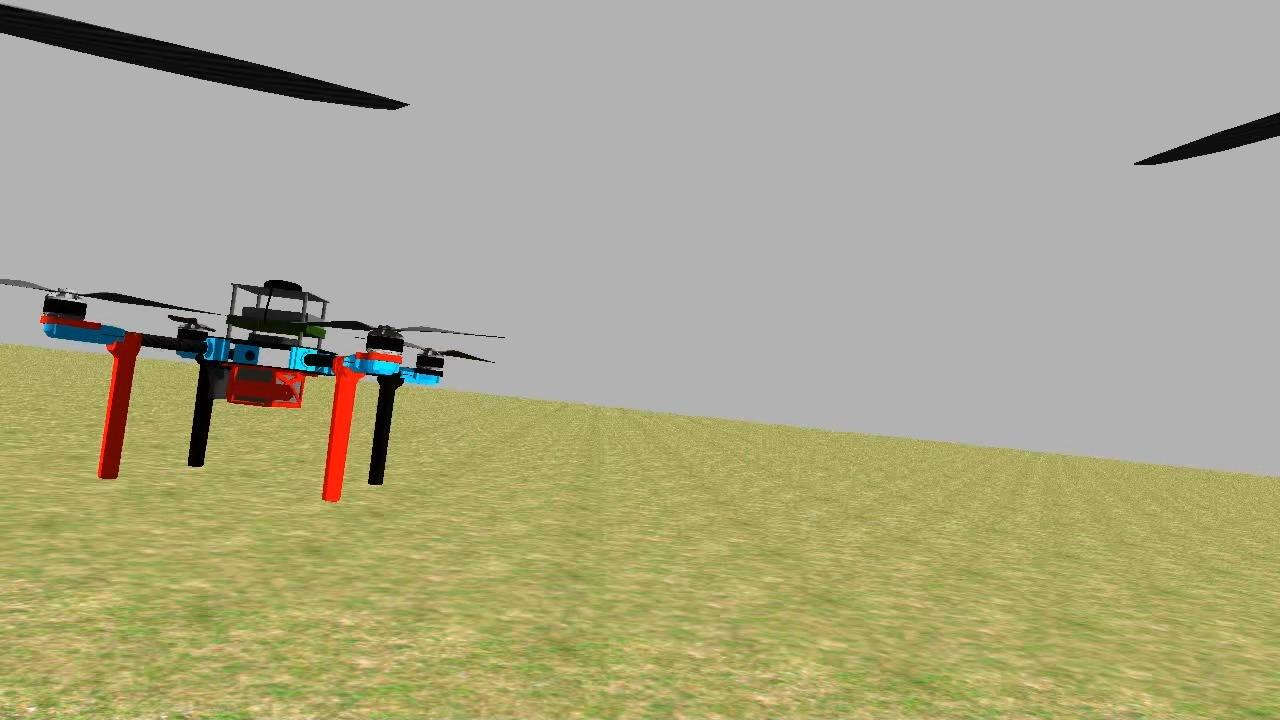UAV: (31, 269, 452, 514)
